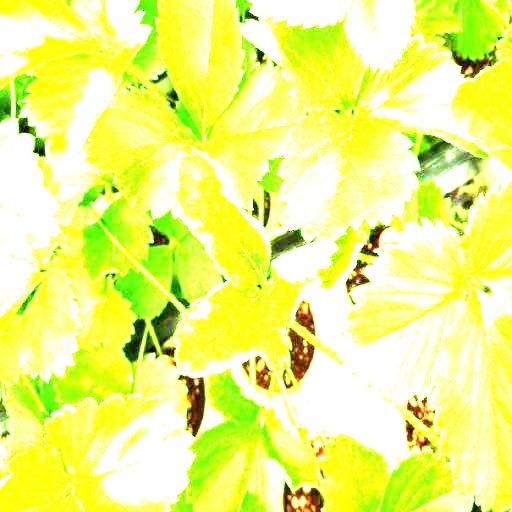Powdery Mildew Leaf: (17, 10, 153, 165), (42, 392, 197, 511), (171, 144, 271, 292), (264, 220, 370, 334), (172, 282, 293, 380), (261, 405, 320, 492), (204, 368, 271, 430)
